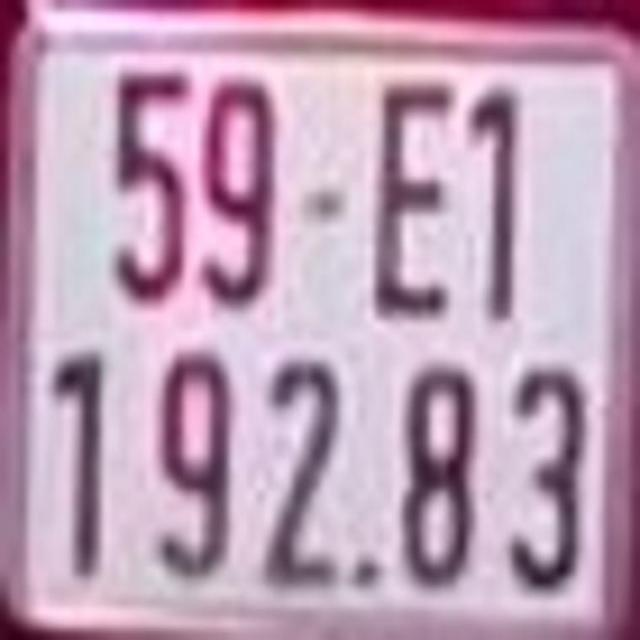1: (459, 78, 534, 328), (49, 338, 114, 584)
2: (265, 350, 336, 592)
3: (507, 353, 589, 592)
5: (113, 56, 193, 301)
8: (398, 352, 478, 590)
9: (154, 346, 234, 584), (200, 69, 276, 308)
E: (373, 72, 453, 324)
